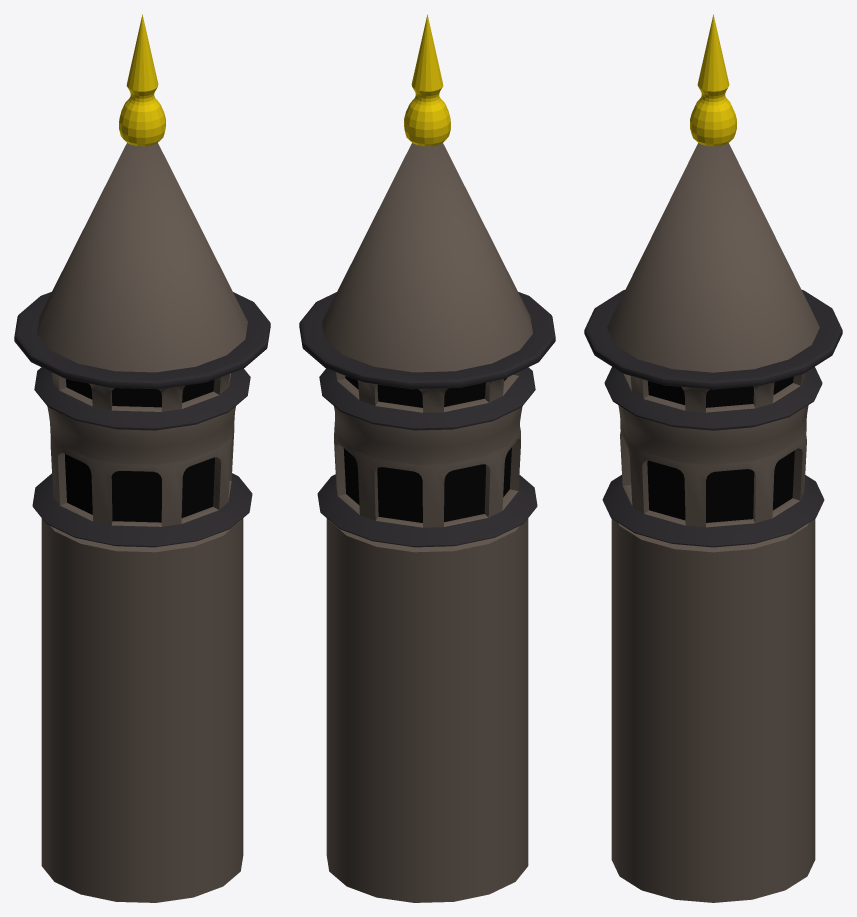
File: Galata_Kulesi.fbx
3 views of the same model, side by side, from view 1: azimuth 30°, elevation 25°; view 2: azimuth 150°, elevation 25°; view 3: azimuth 270°, elevation 25° (orthographic).
Visible parts, largest first — view 1: Circle; view 2: Circle; view 3: Circle.
Part boxes in pixels (x1=…): Circle: x1=14, y1=14, x2=270, y2=902; Circle: x1=299, y1=14, x2=555, y2=902; Circle: x1=584, y1=14, x2=842, y2=902.
Size of the model in its own units: 69.9 by 252 by 69.9.
